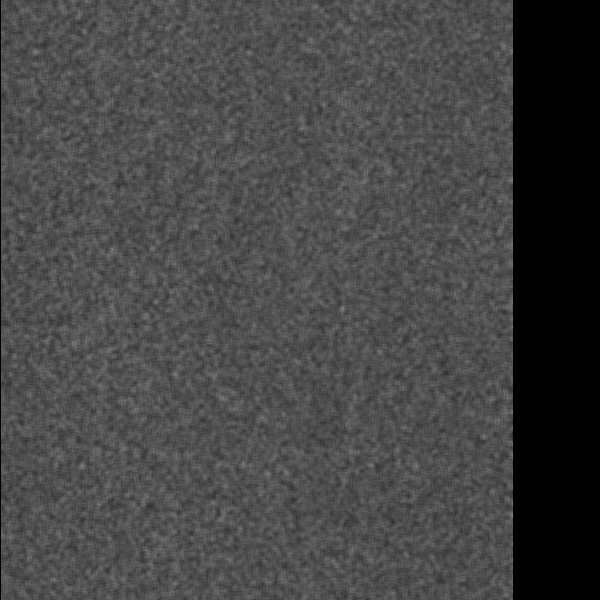spark: (225, 182, 274, 223), (96, 418, 140, 449)
